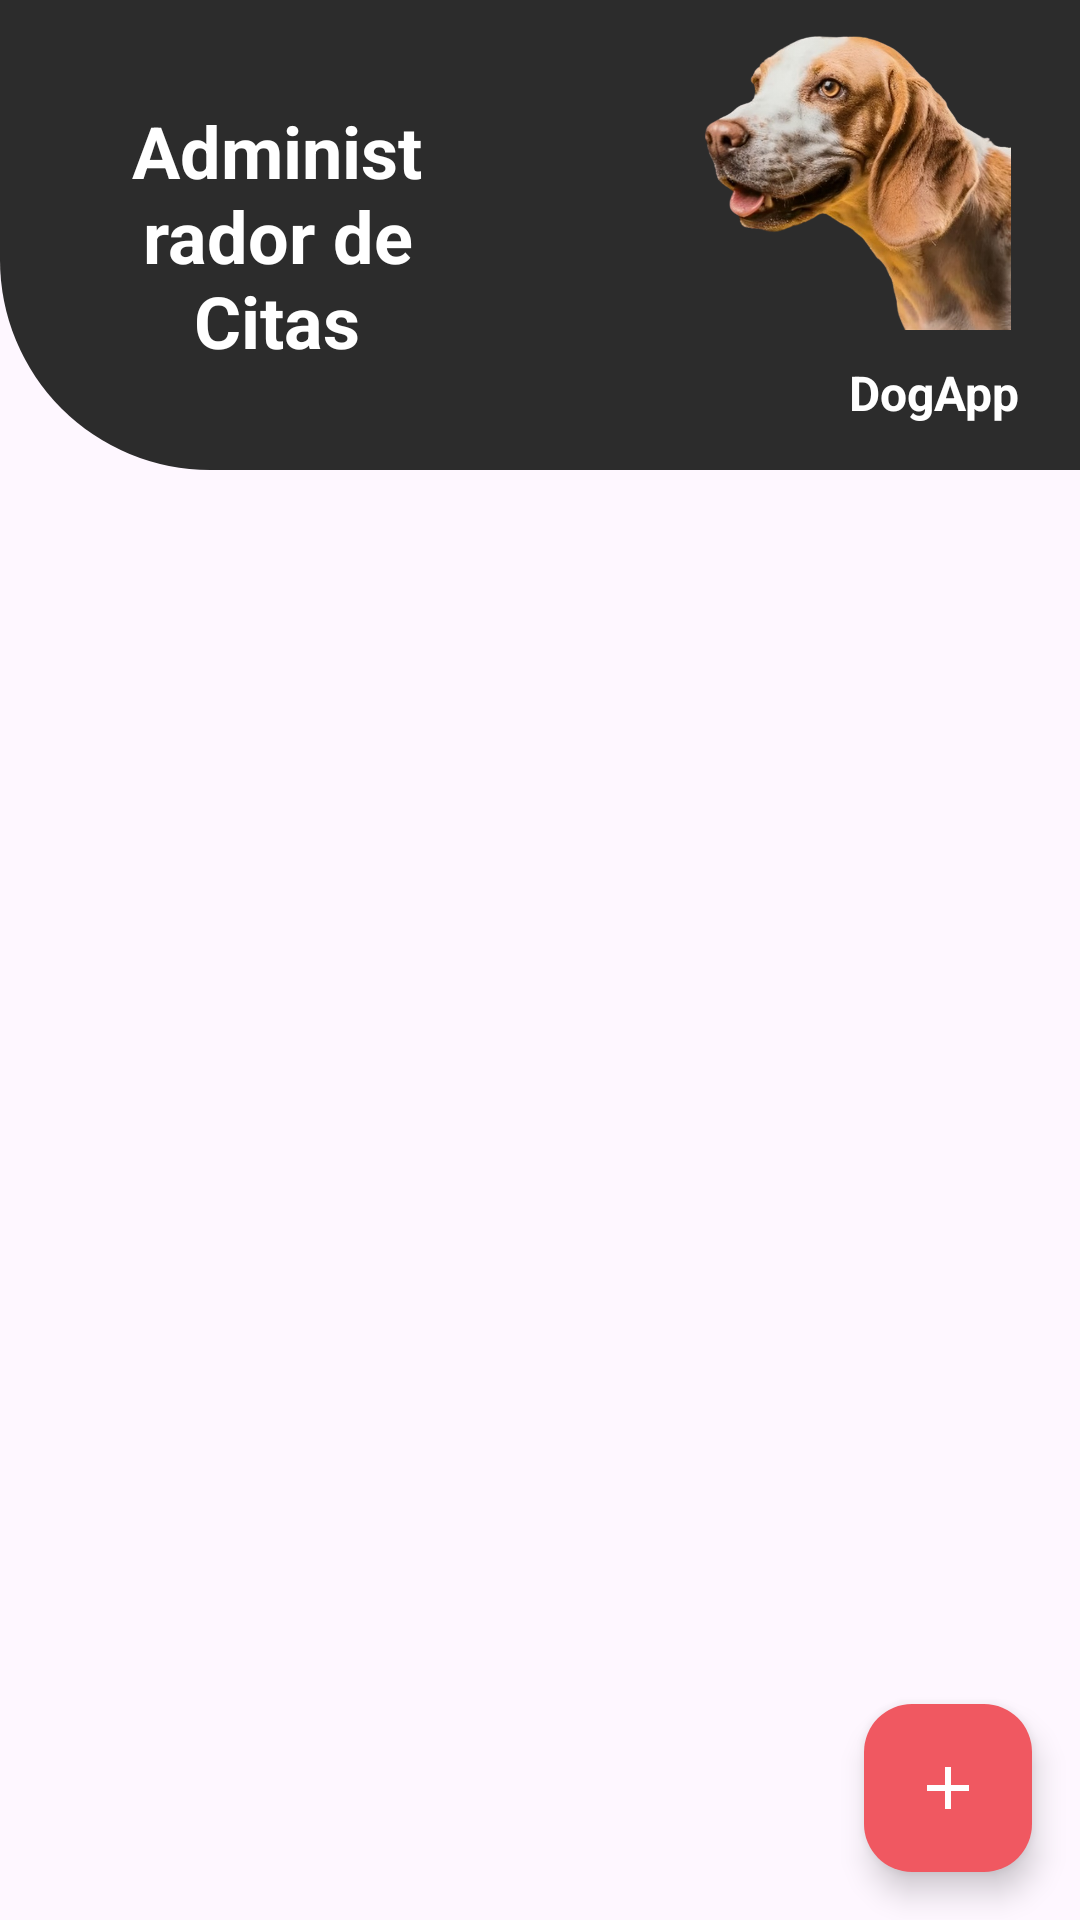

Named icons in this screenshot (1080 x 1920) and their centers, (x=x, y=y):
add: (x=948, y=1788)
perro: (x=858, y=183)
